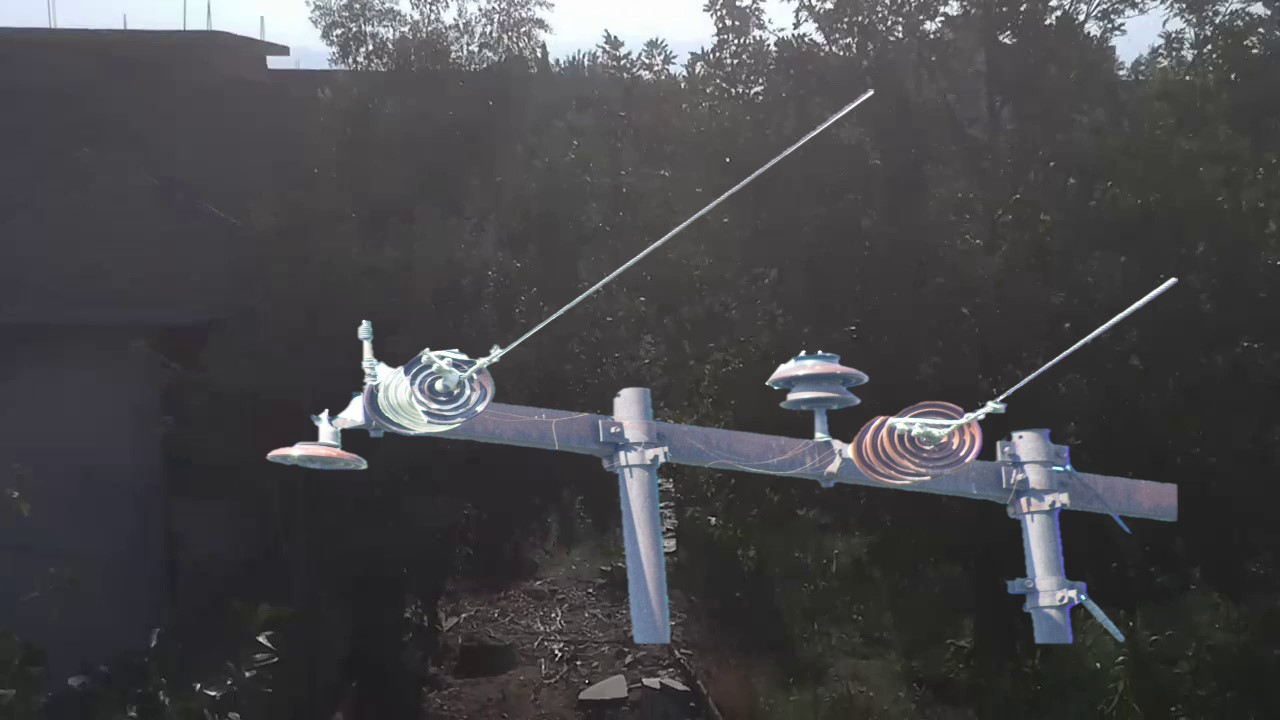defect_disc: (397, 344, 501, 426)
insulator_disc: (880, 393, 986, 478), (262, 429, 375, 483)
